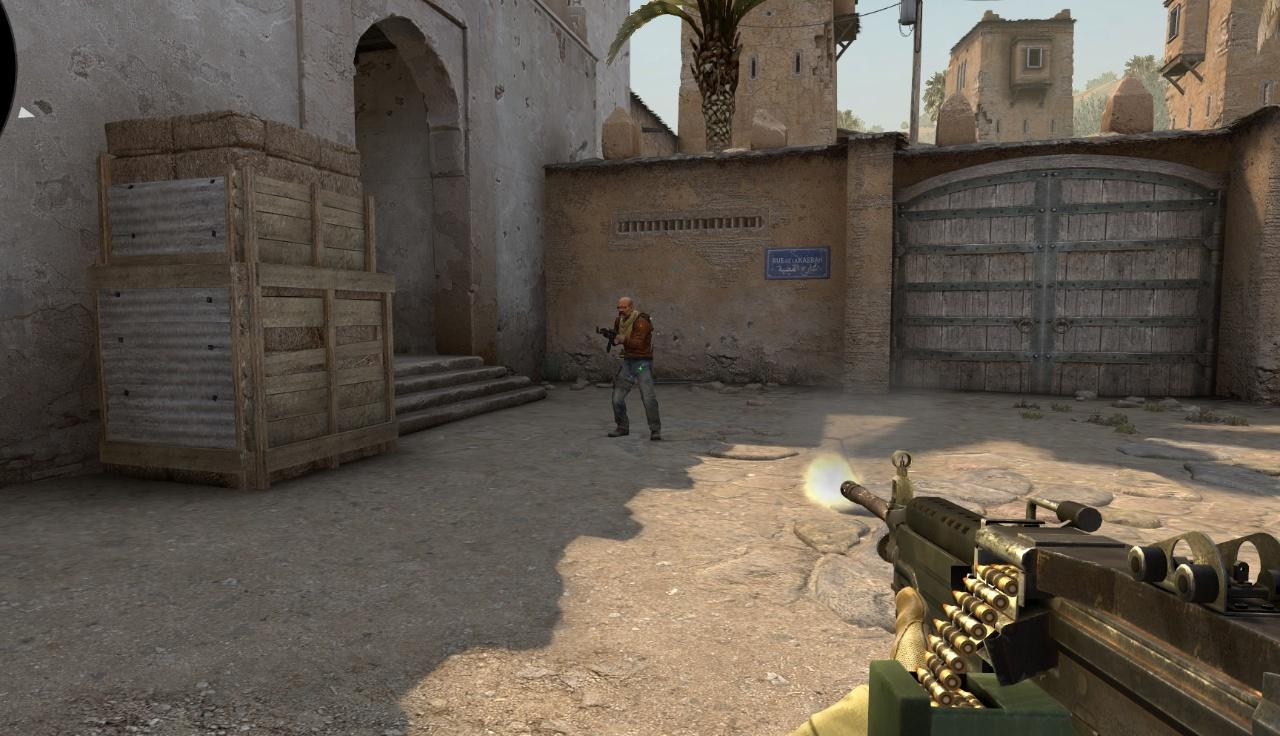rifle: (800, 450, 1280, 736)
tt: (610, 297, 661, 441)
tthead: (617, 298, 633, 319)
